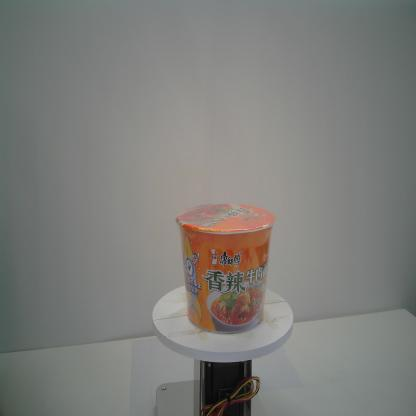Instant Noodles: (175, 203, 277, 334)
